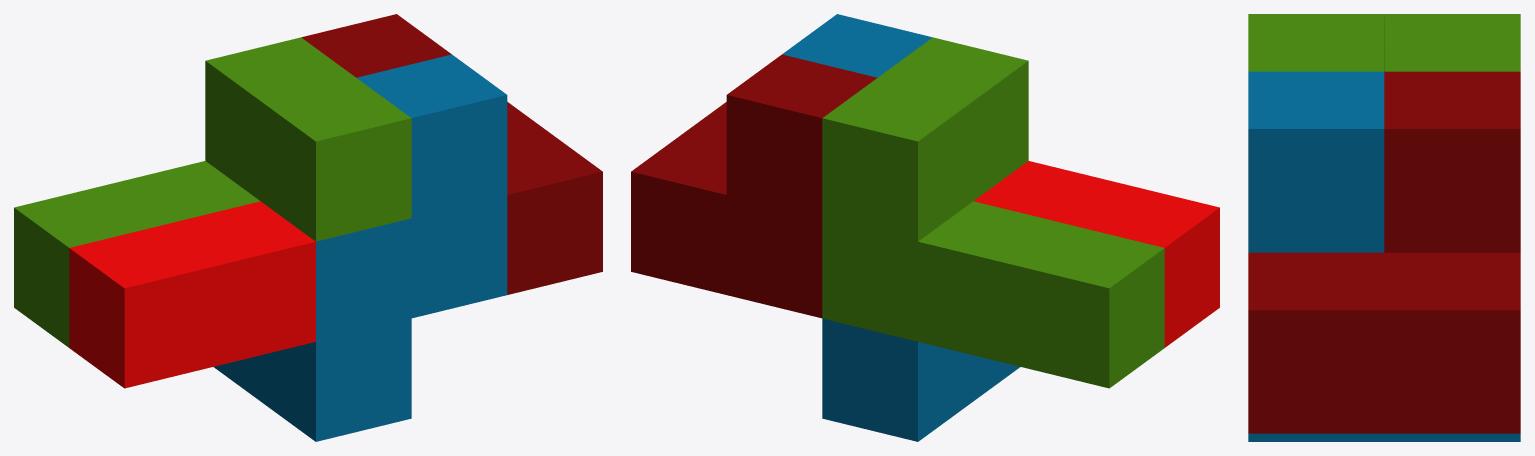
3 views of the same model, side by side, from view 1: azimuth 30°, elevation 25°; view 2: azimuth 150°, elevation 25°; view 3: azimuth 270°, elevation 25° (orthographic). The views are drawn at different scales.
Parts seen in each view (by area): view 1: mergedBlocks(Clone); view 2: mergedBlocks(Clone); view 3: mergedBlocks(Clone).
Boxes of the visible parts, x1,y1,x2,y2 form: mergedBlocks(Clone): [14, 14, 602, 441]; mergedBlocks(Clone): [631, 14, 1219, 441]; mergedBlocks(Clone): [1248, 14, 1520, 441].
Bounding box in the file's own units: 5 × 3 × 2.
4 materials, 4 textured.
